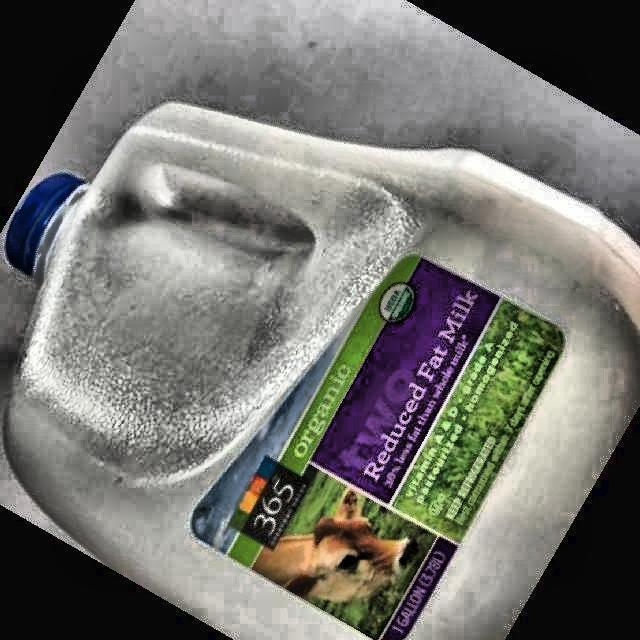plastic: (4, 102, 640, 640)
